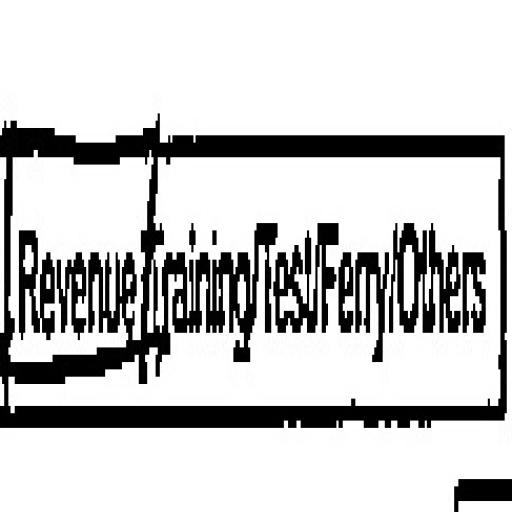check: (4, 43, 156, 496)
